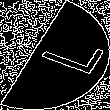L_NW: (16, 30, 94, 80)
